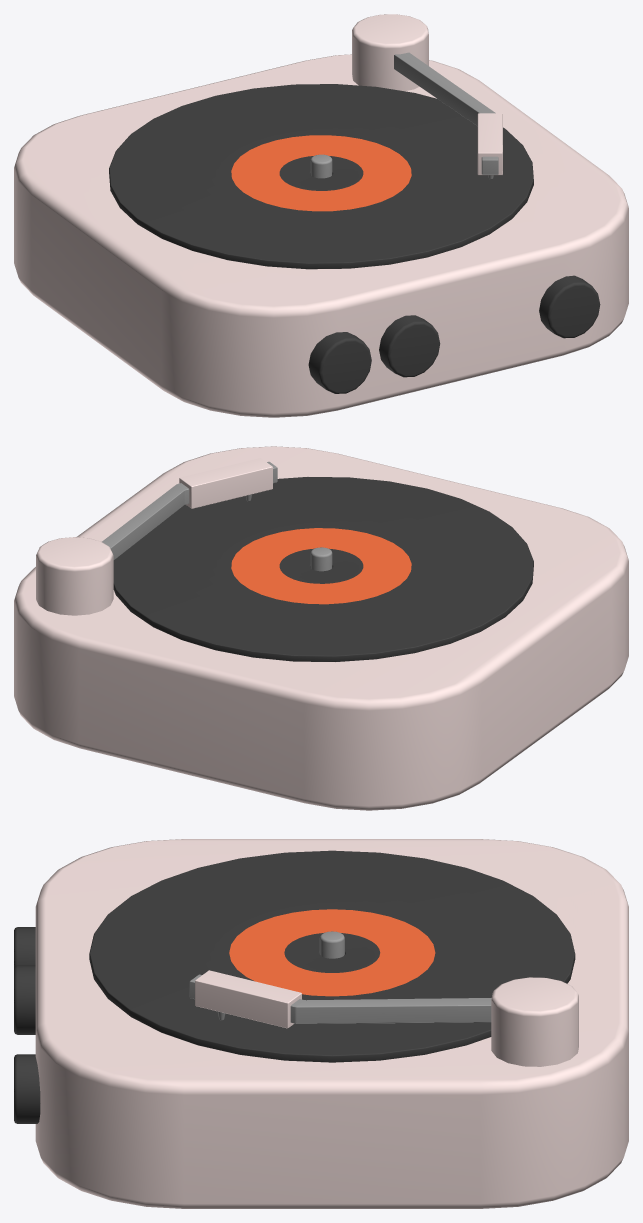
Rendered from Store_13_Vinyl_Player_1.glb.
The picture shows the model from 3 angles, top to bottom: view 1: azimuth 30°, elevation 25°; view 2: azimuth 150°, elevation 25°; view 3: azimuth 270°, elevation 25°; orthographic projection. The views are drawn at different scales.
Parts seen in each view (by area): view 1: Store_13_Vinyl_Player_1; view 2: Store_13_Vinyl_Player_1; view 3: Store_13_Vinyl_Player_1.
Part boxes in pixels (x1,y1,x2,y2): Store_13_Vinyl_Player_1: (14,14,628,417); Store_13_Vinyl_Player_1: (14,446,628,810); Store_13_Vinyl_Player_1: (14,839,628,1208).
Size of the model in its own units: 0.5042 by 0.1699 by 0.5226.
Materials: 1 (1 with a texture image).
